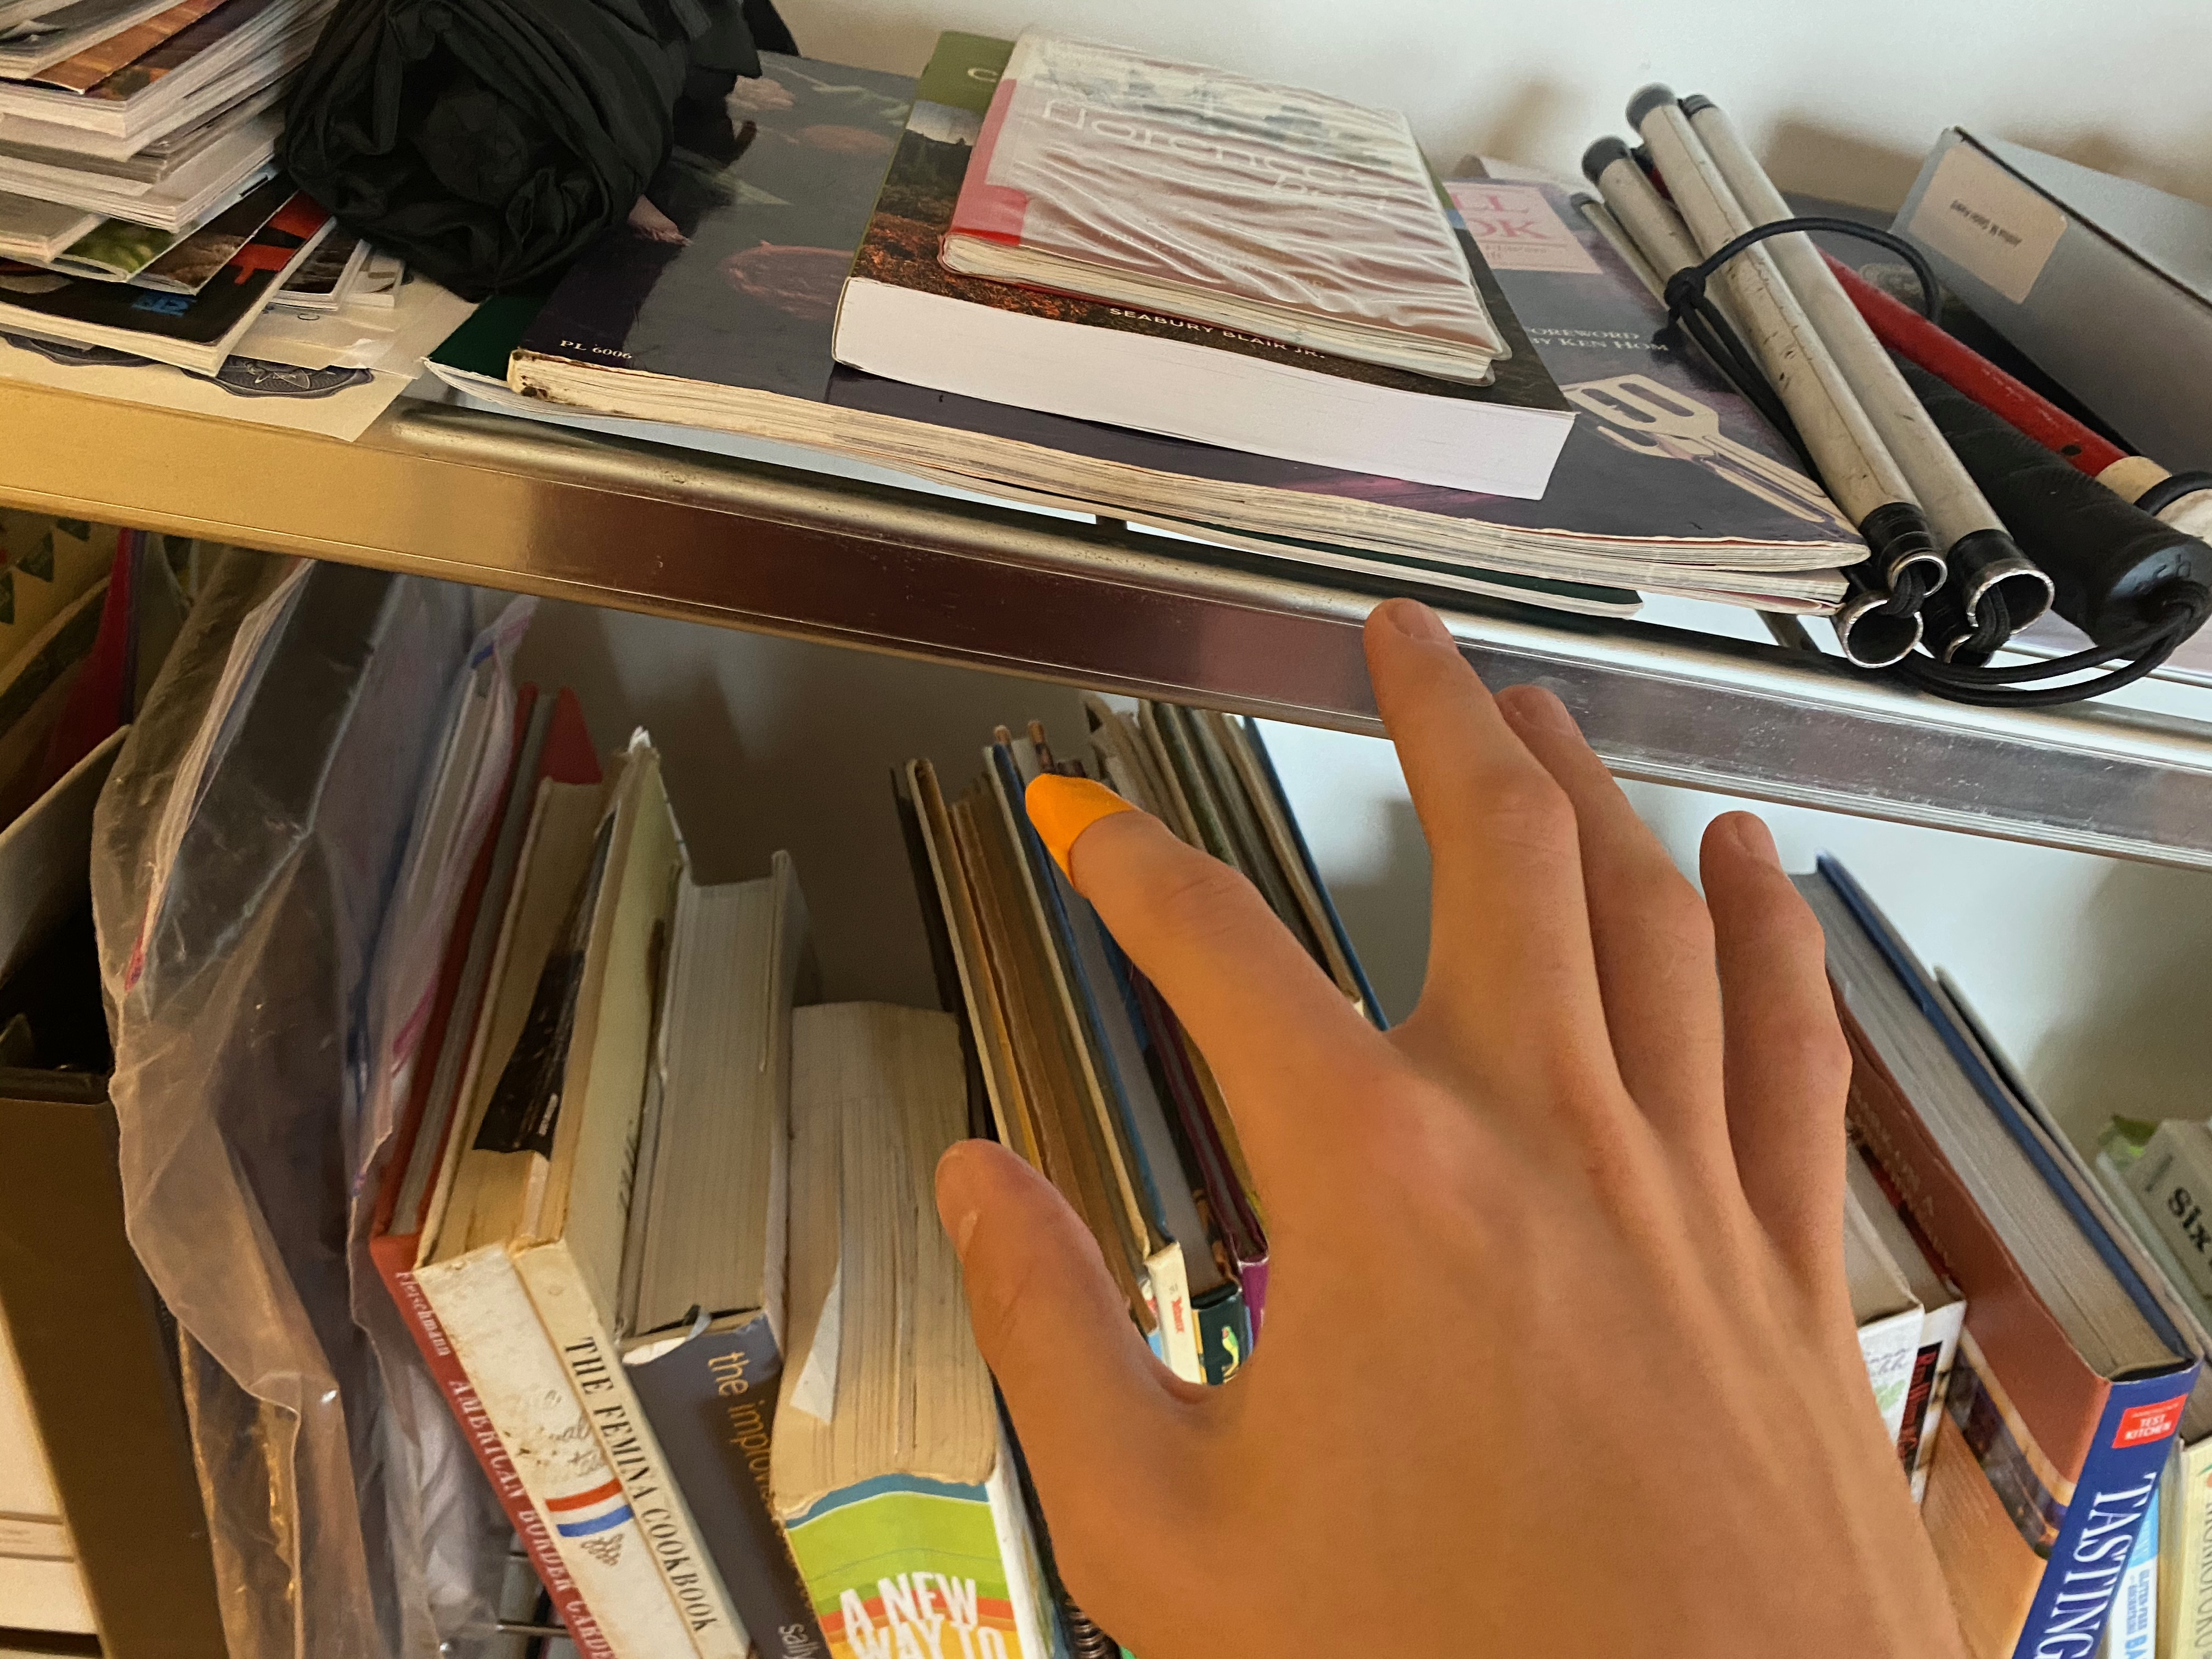fingertip: (981, 760, 1221, 904)
